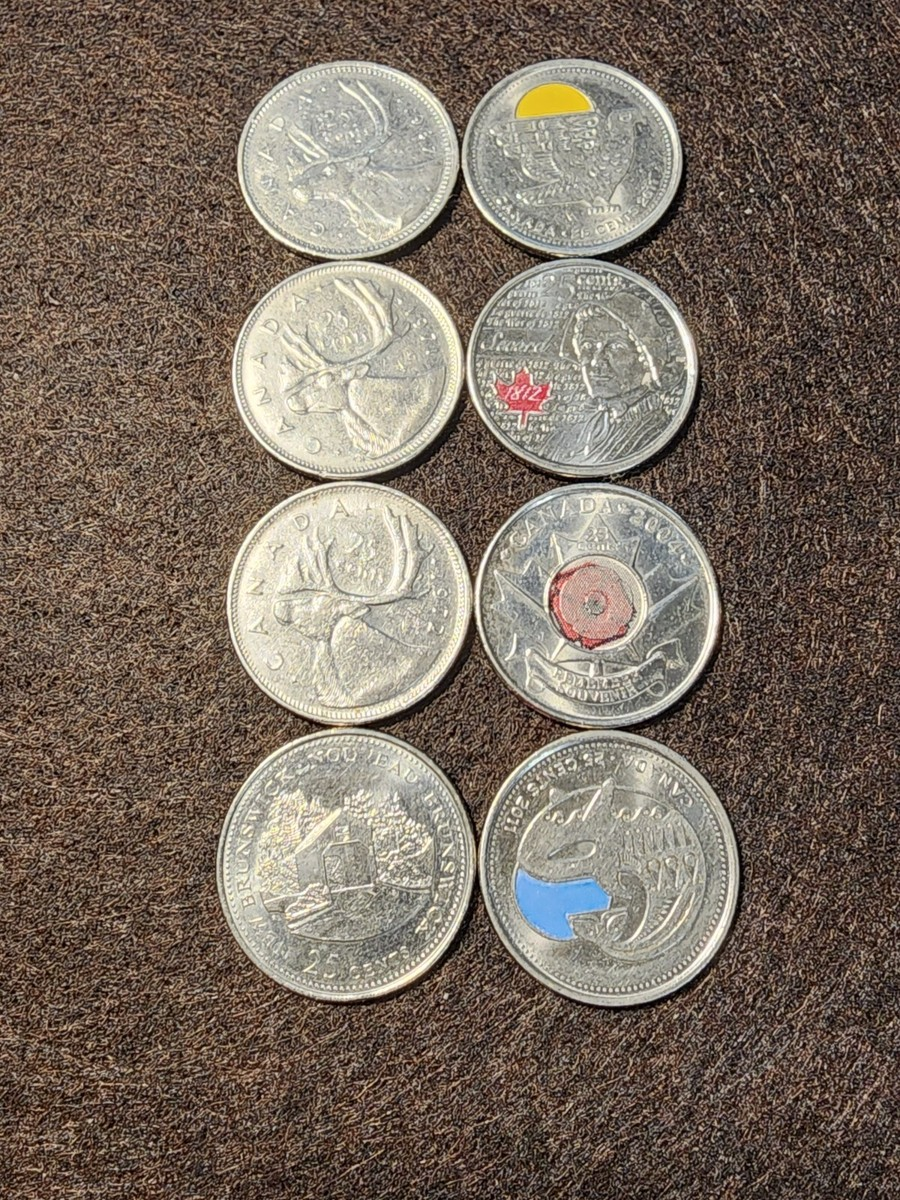coin: (479, 731, 737, 1004), (218, 730, 474, 1000), (476, 483, 719, 727), (227, 483, 471, 724), (468, 259, 697, 477), (233, 263, 462, 477), (238, 61, 458, 258), (462, 59, 681, 256)
